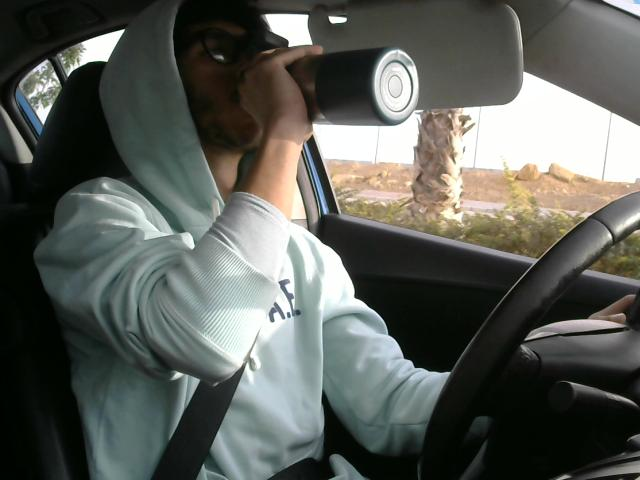Drinking: (176, 12, 418, 147)
